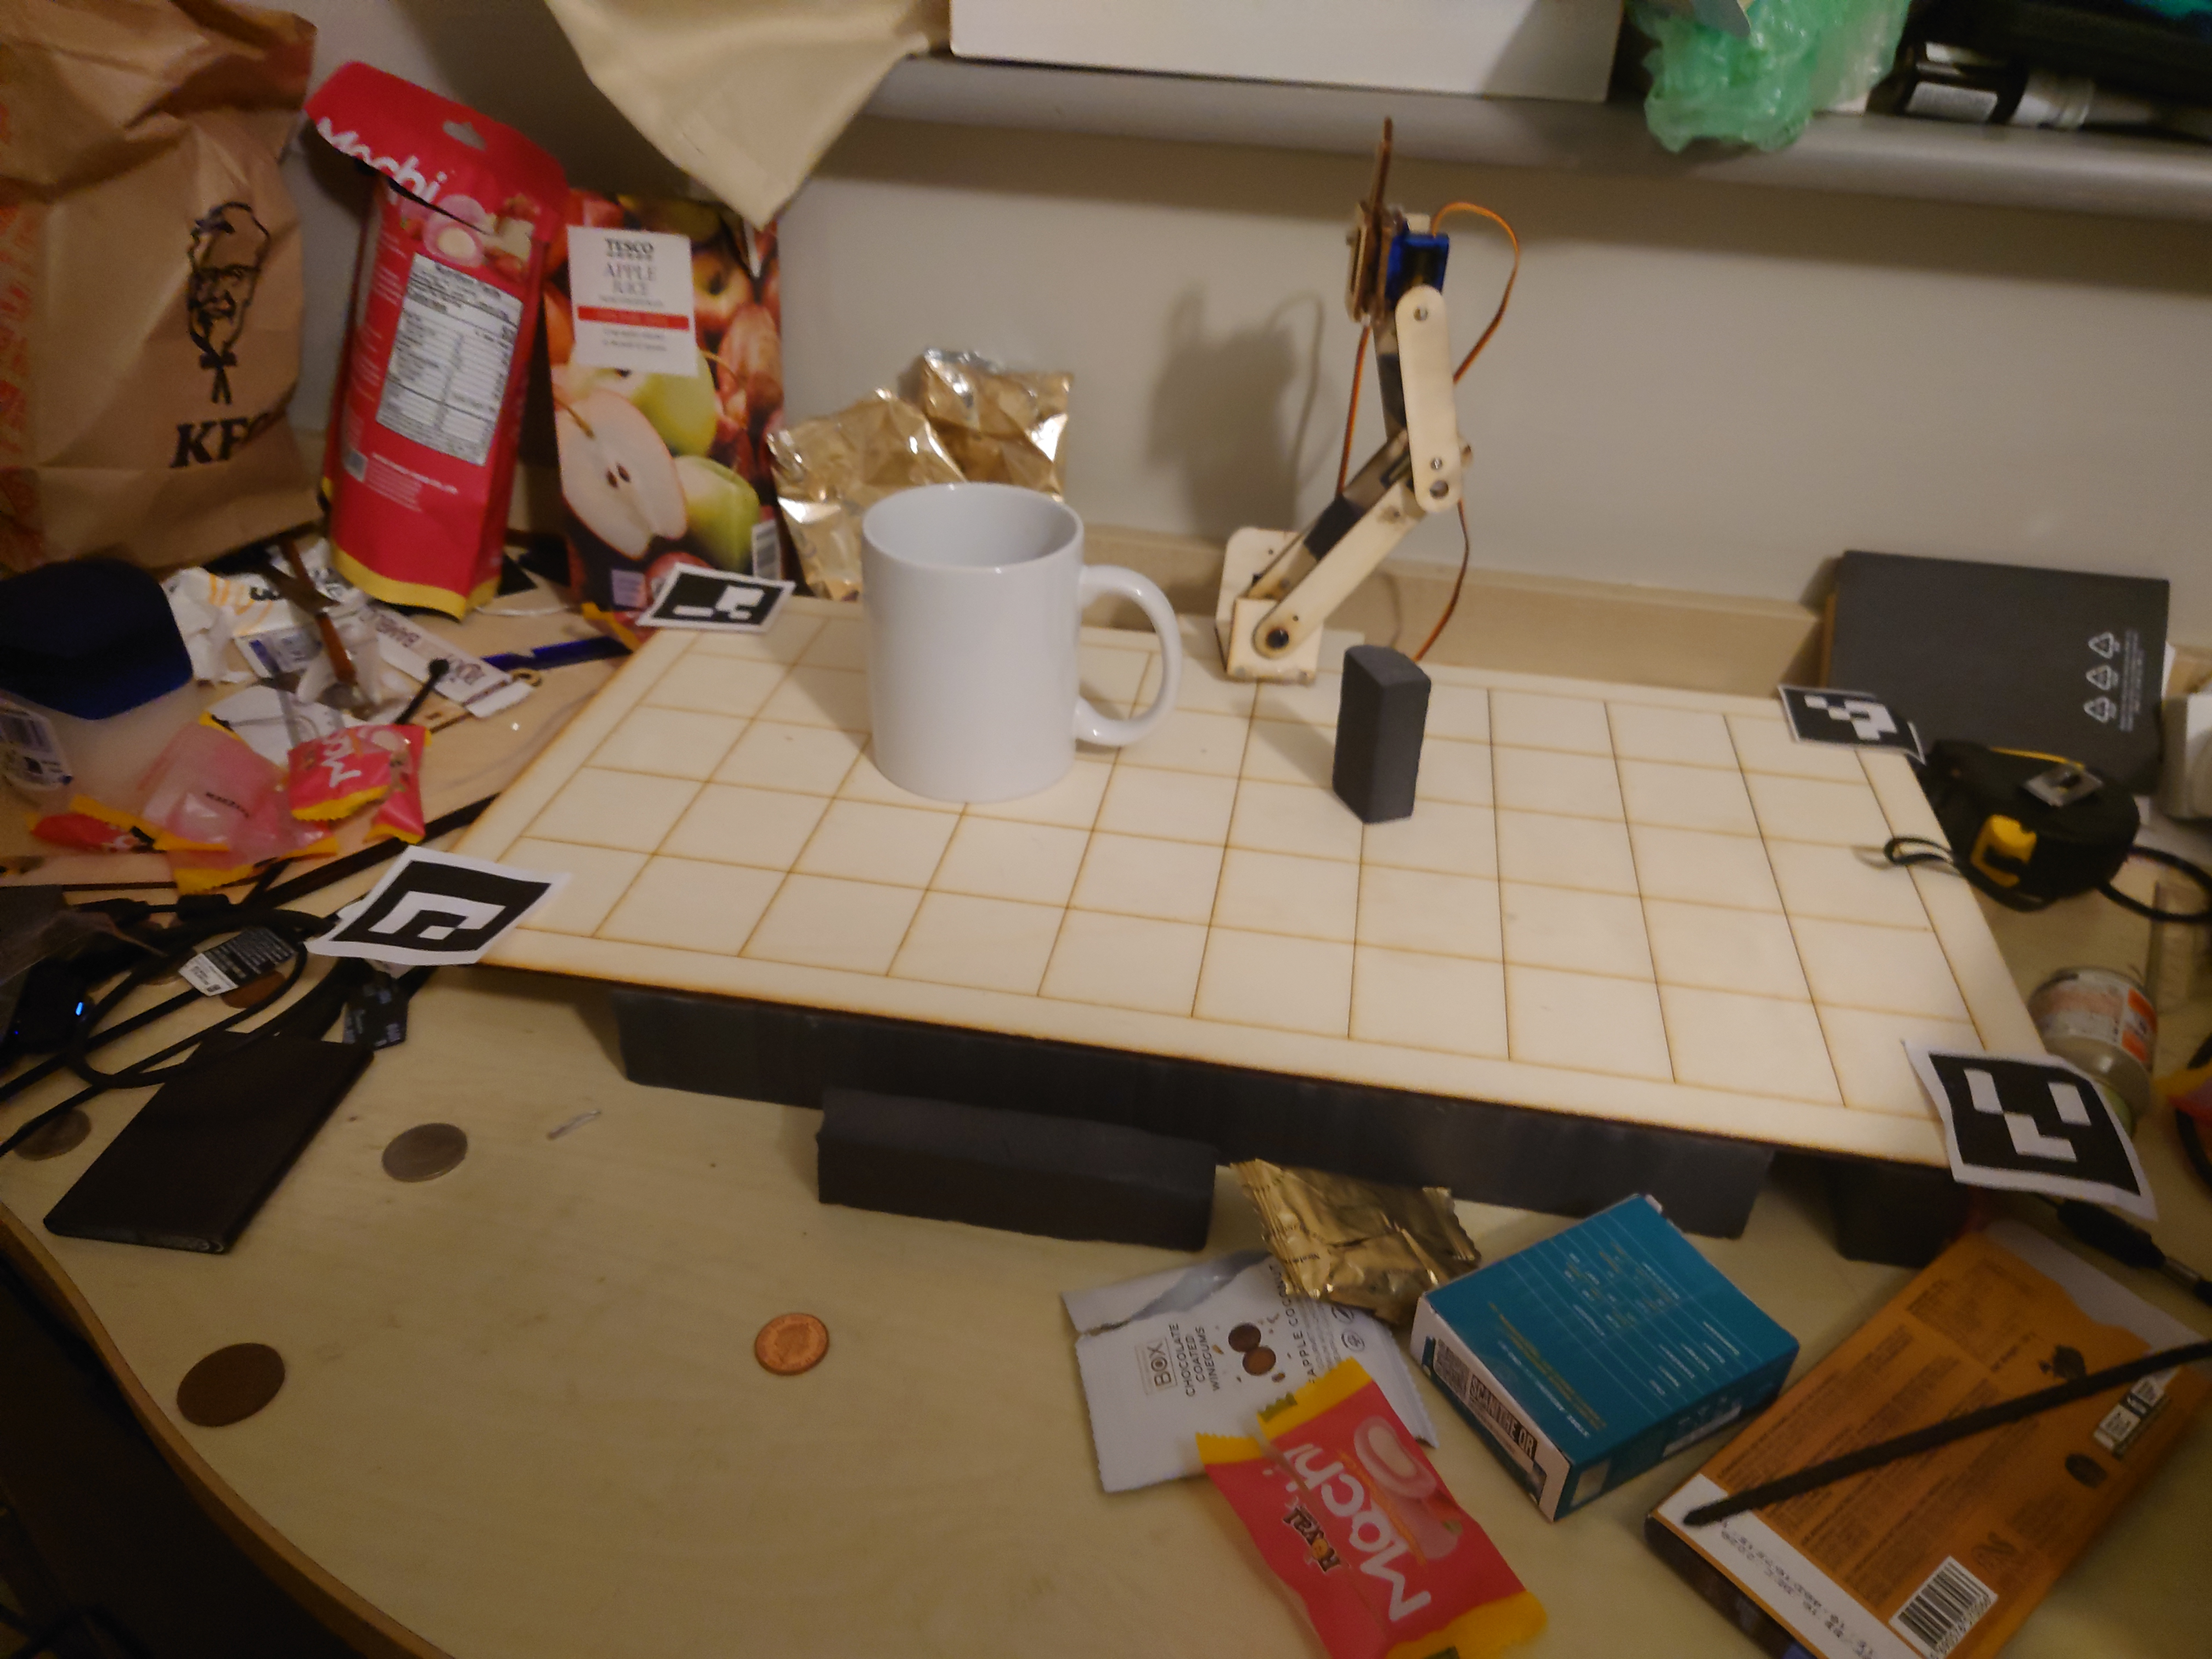target: (857, 464, 1186, 800), (1325, 641, 1430, 823)
